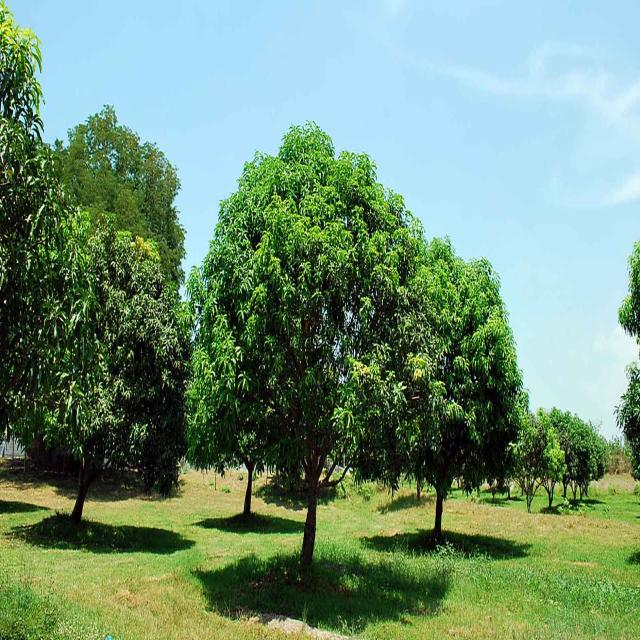Mango-Tree: (182, 117, 413, 555), (373, 242, 521, 560), (29, 223, 185, 509)
